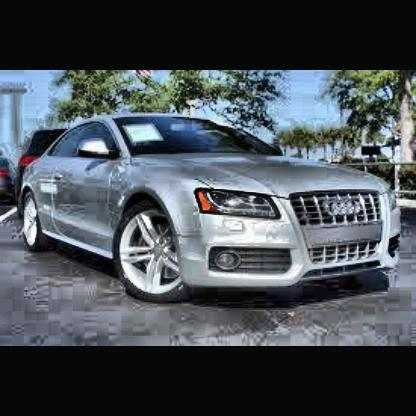Audi S5 Coupe 2012: (2, 91, 416, 328)
